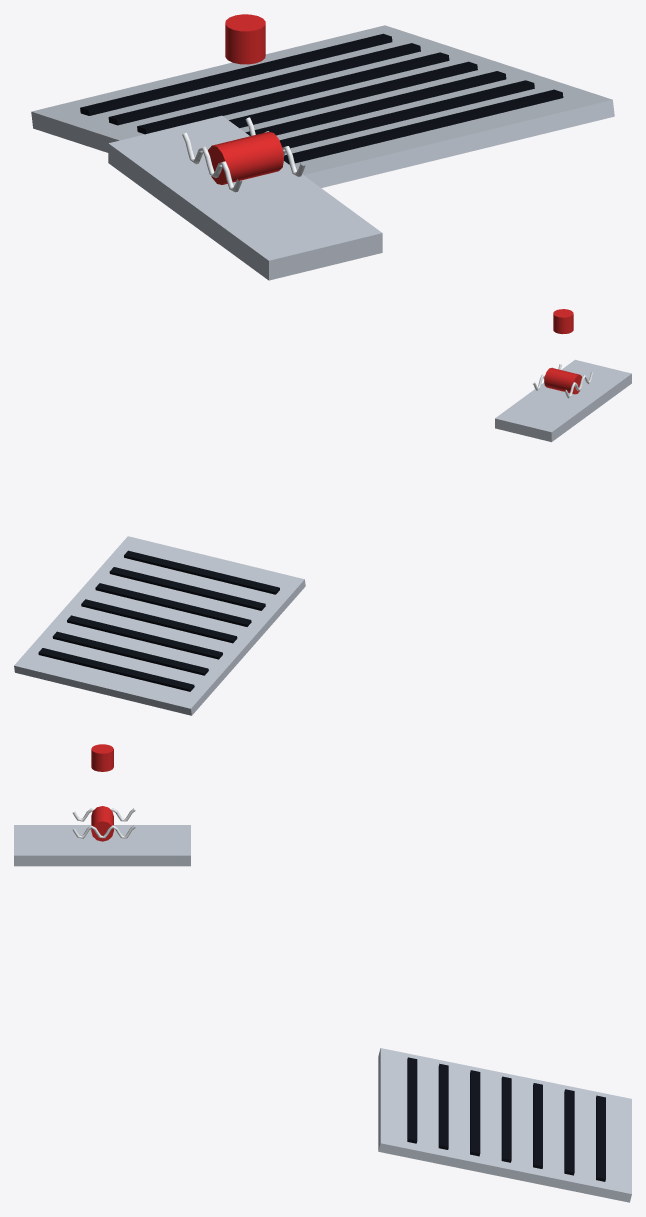
Rendered from sequential_shifter_gate.glb.
3 views of the same model, one above another, from view 1: azimuth 30°, elevation 25°; view 2: azimuth 150°, elevation 25°; view 3: azimuth 270°, elevation 25° (orthographic). The views are drawn at different scales.
Parts seen in each view (by area): view 1: Shifter_Linkage_Heel_Plate_Assembly; view 2: Shifter_Linkage_Heel_Plate_Assembly; view 3: Shifter_Linkage_Heel_Plate_Assembly.
Boxes of the visible parts, x1,y1,x2,y2 form: Shifter_Linkage_Heel_Plate_Assembly: (31,14,614,280); Shifter_Linkage_Heel_Plate_Assembly: (14,309,631,715); Shifter_Linkage_Heel_Plate_Assembly: (14,744,631,1202).
Size of the model in its own units: 0.535 by 0.3933 by 0.7675.
